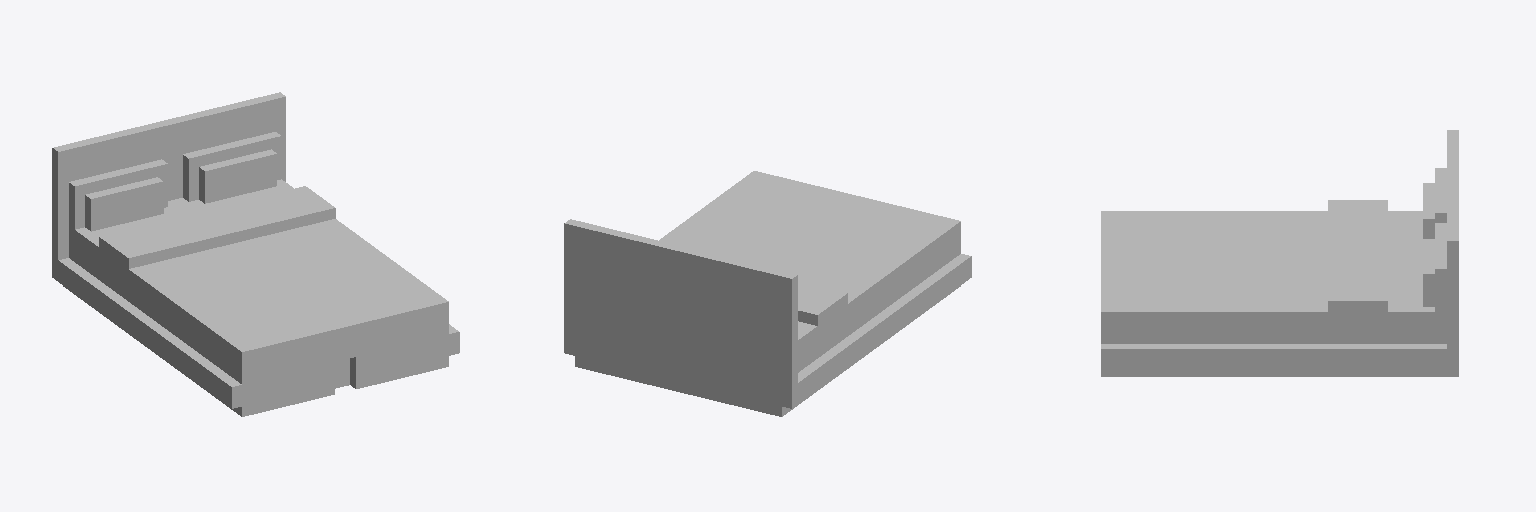
File: Bed.obj
The picture shows the model from 3 angles: view 1: azimuth 30°, elevation 25°; view 2: azimuth 150°, elevation 25°; view 3: azimuth 270°, elevation 25°; orthographic projection.
Parts seen in each view (by area): view 1: object 1; view 2: object 1; view 3: object 1.
Boxes of the visible parts, box(x1,y1,x2,y2) form: object 1: box(52, 92, 459, 416); object 1: box(564, 171, 971, 416); object 1: box(1101, 130, 1458, 376).
Bounding box in the file's own units: 2.2 × 1.3 × 3.